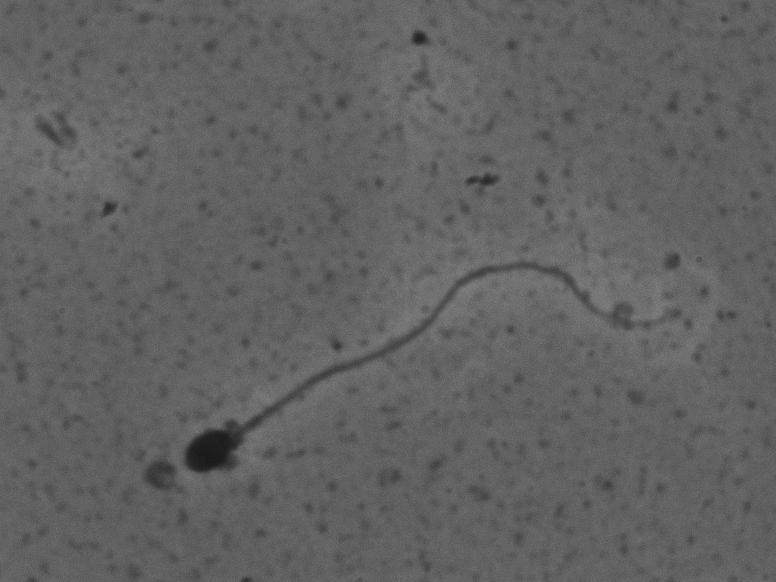Normal: (177, 226, 686, 512)
